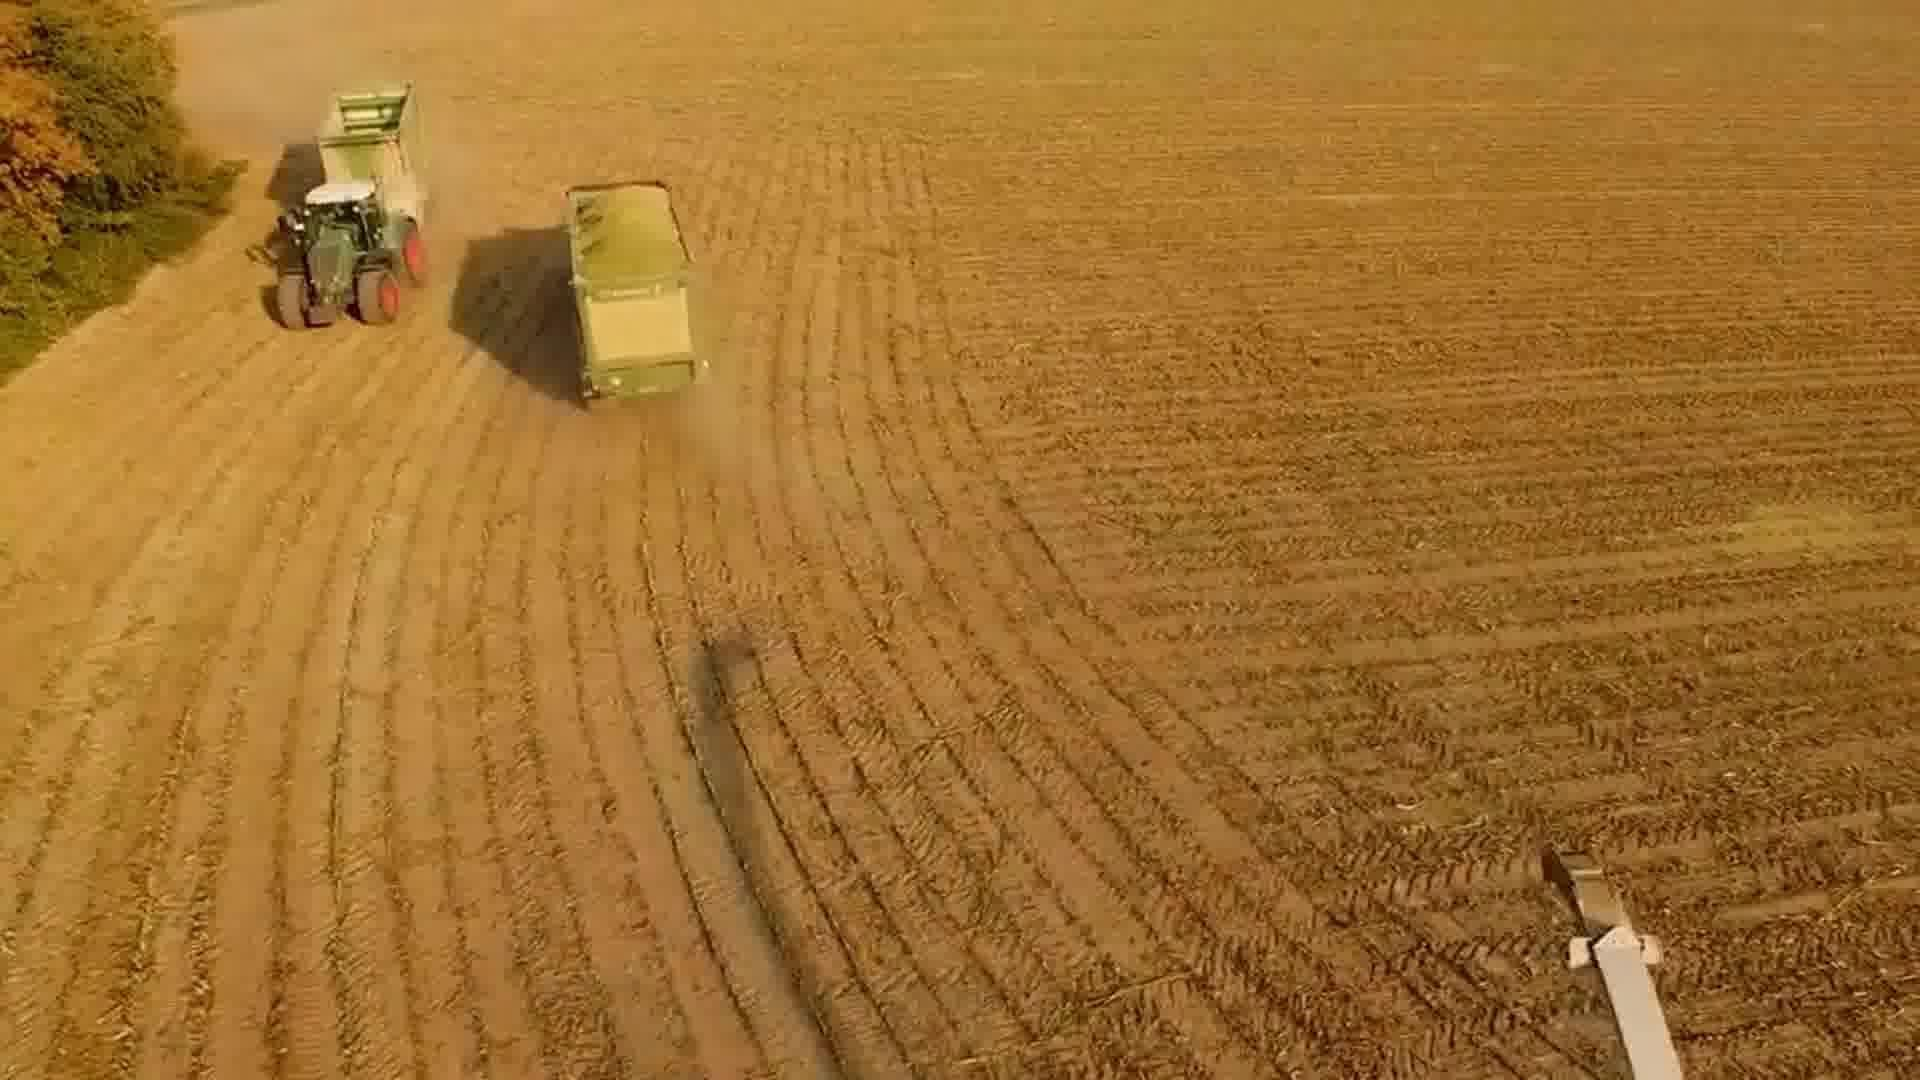tractor: (266, 175, 433, 332)
trailer: (562, 174, 707, 415), (314, 74, 436, 224)
